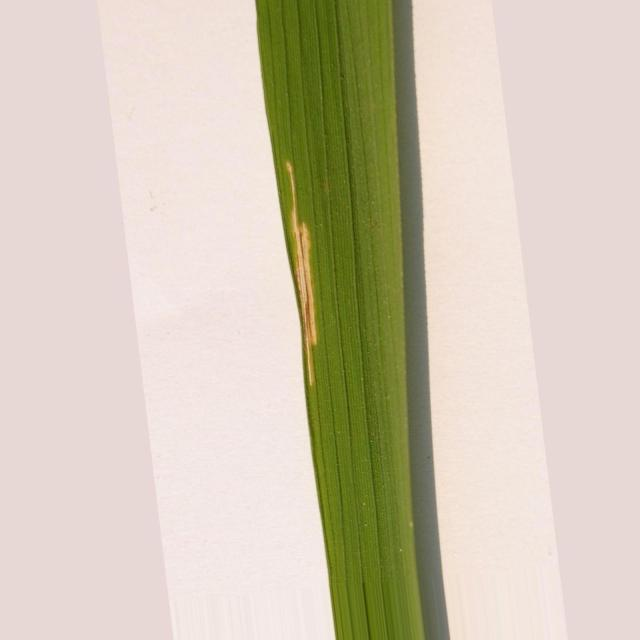Bacterial_Leaf_Blight: (286, 162, 318, 385)
